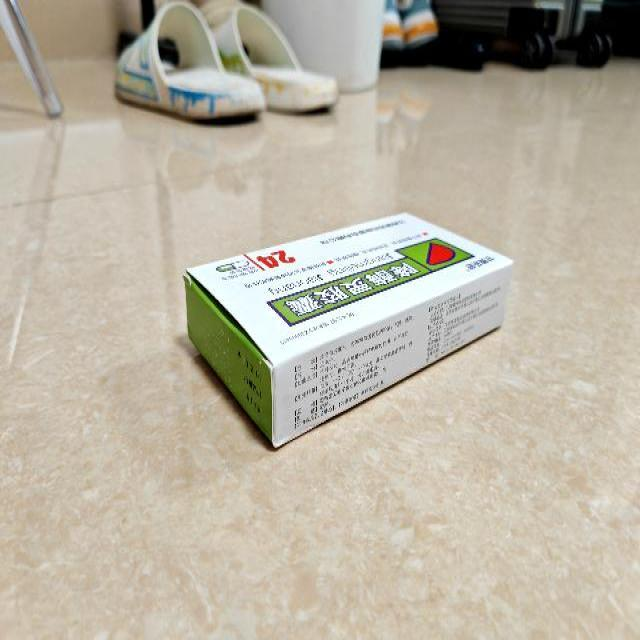box: (183, 212, 512, 452)
